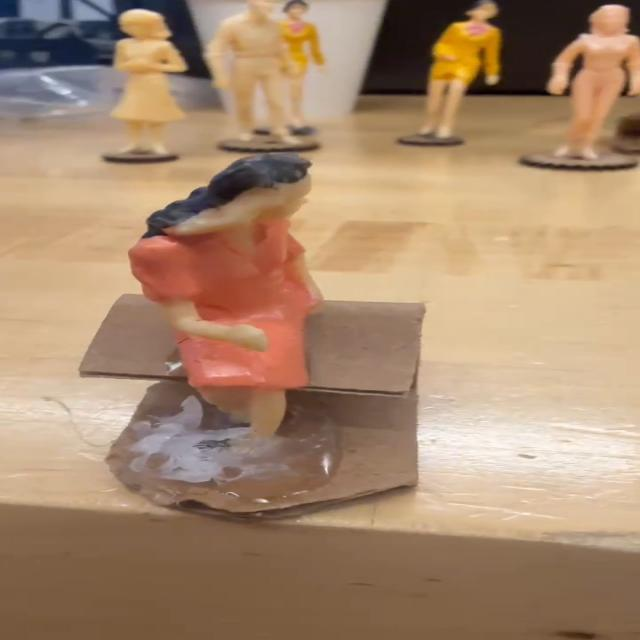Authorized: (119, 146, 351, 466)
